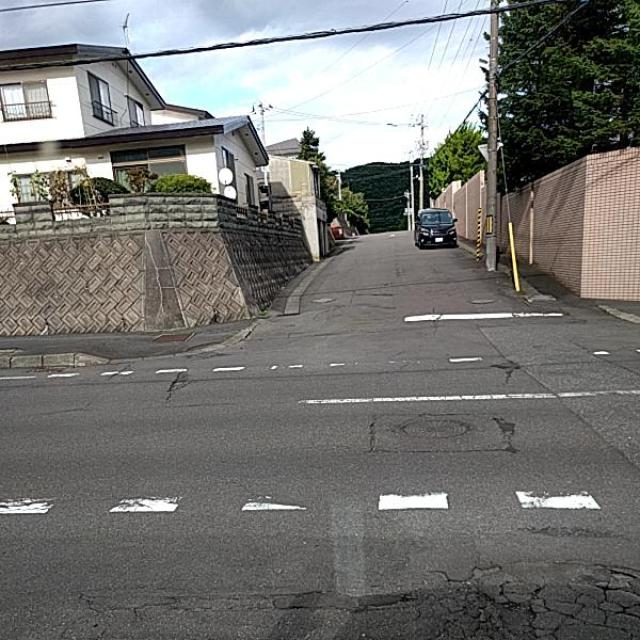Crack: (84, 309, 639, 640)
